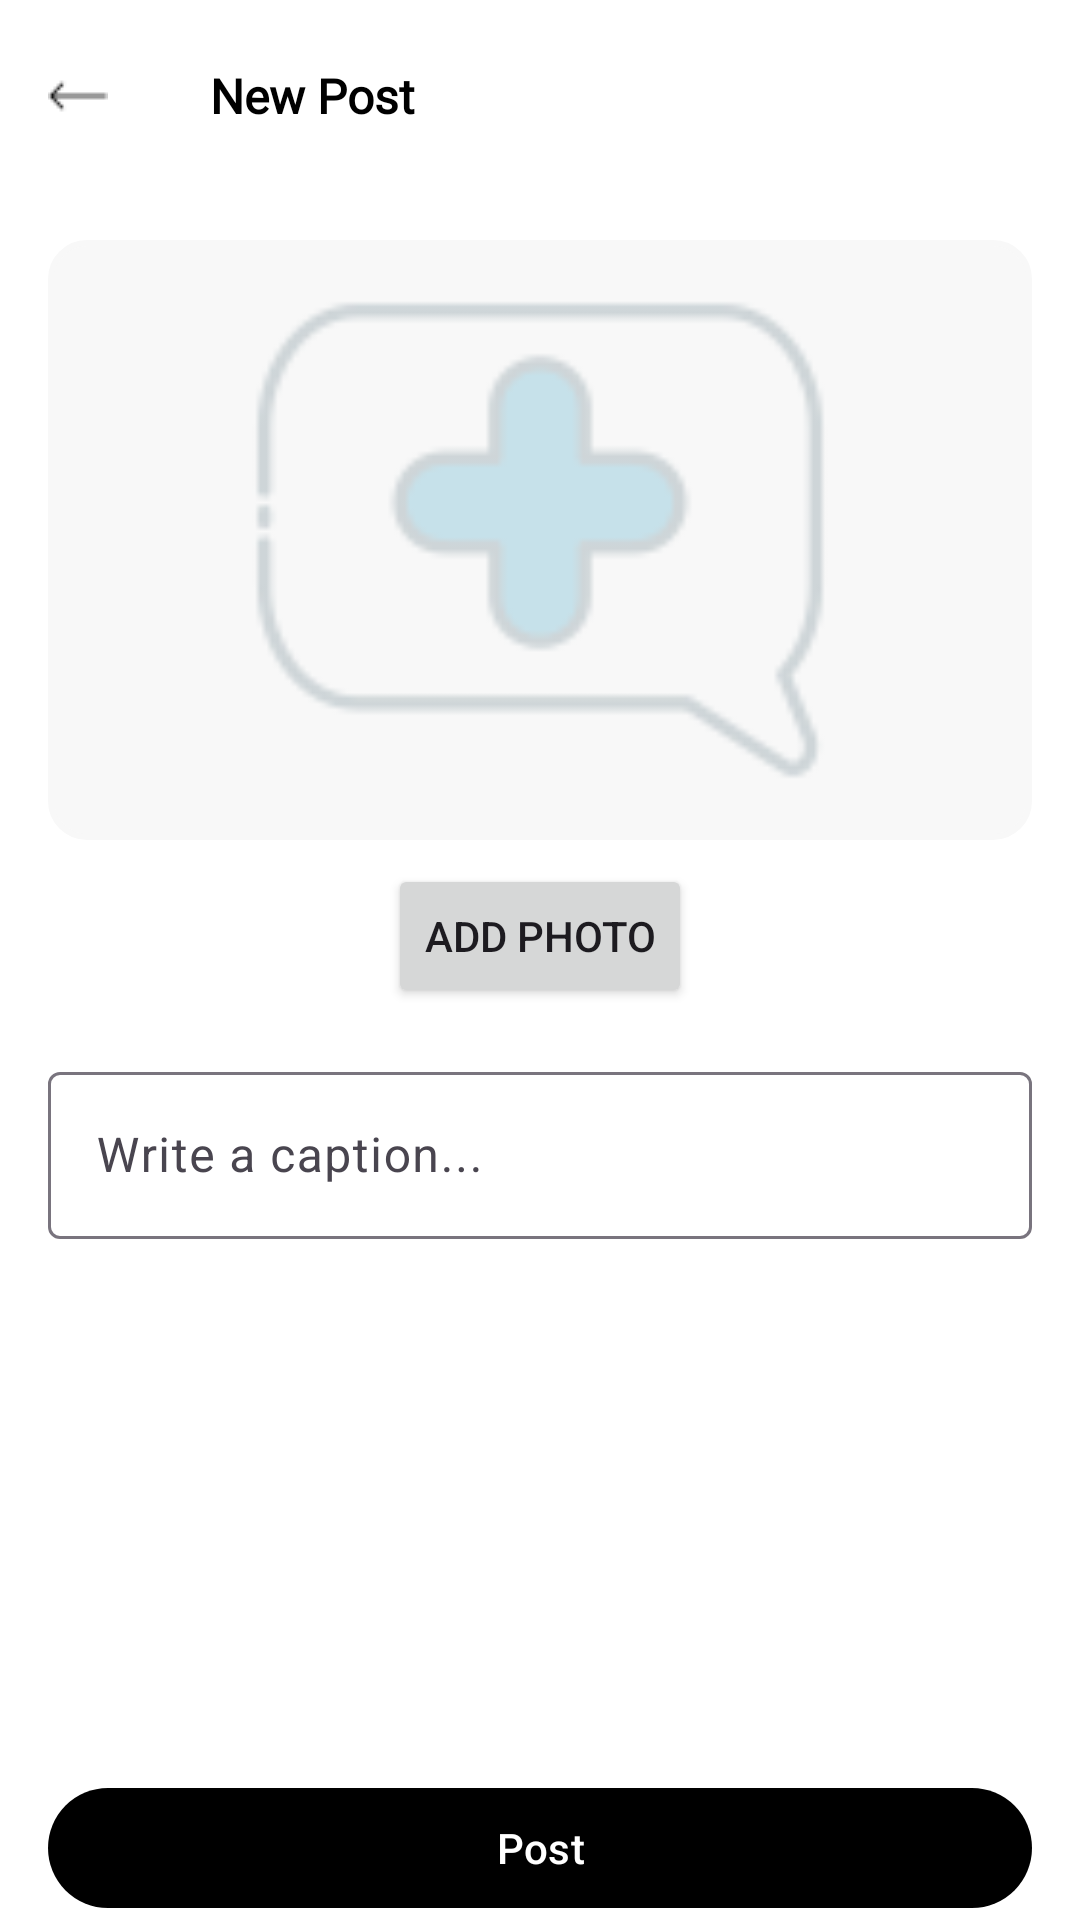

Icons on this 1080x1920 Android screen, each with its box as (x1, y1, x2, y2):
back arrow: (48, 81, 108, 111)
